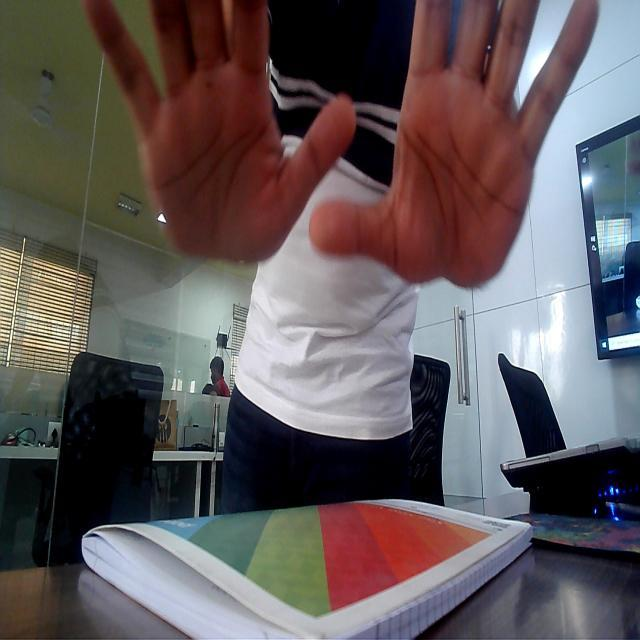without_gloves: (322, 0, 612, 313), (78, 0, 361, 264)
